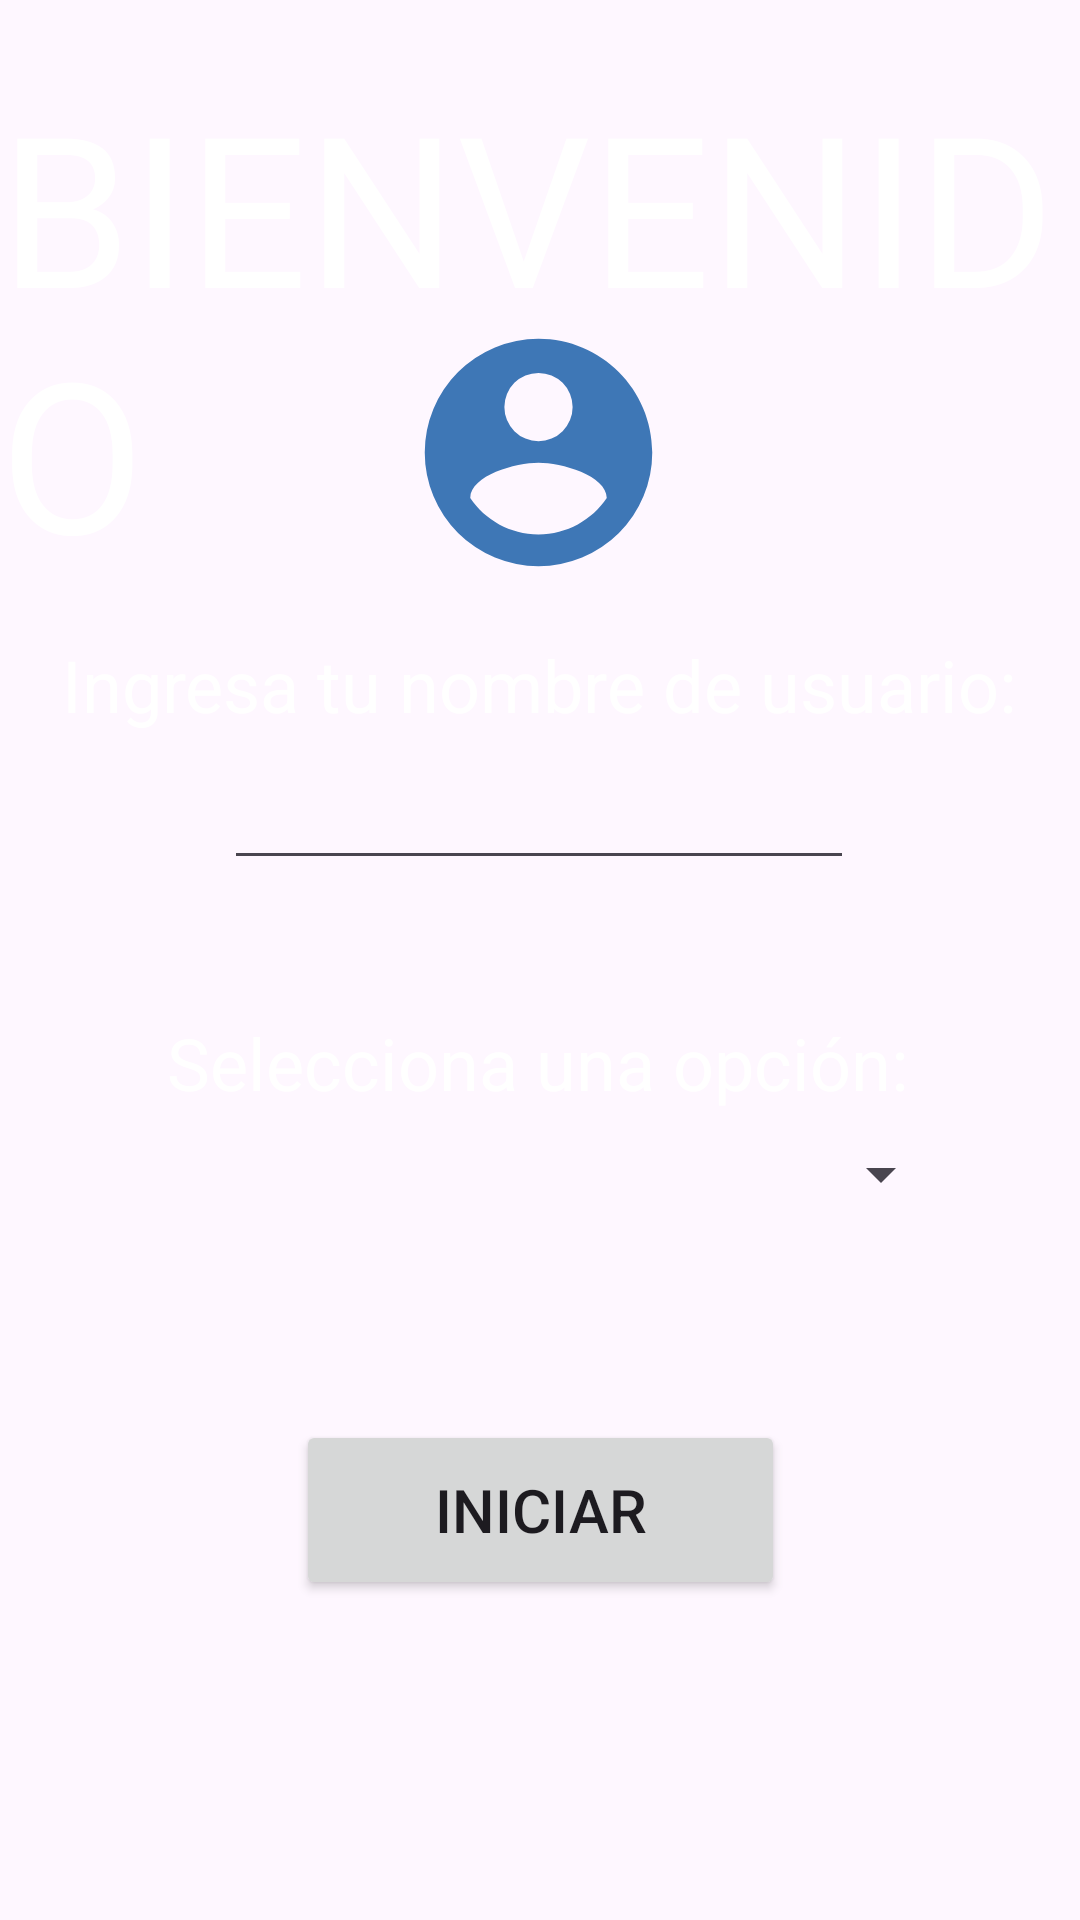

Screen size 1080x1920. Icon name, then its box in pixels as (left=x1, top=y1, right=x2, bottom=y2):
account circle: (left=424, top=338, right=653, bottom=567)
